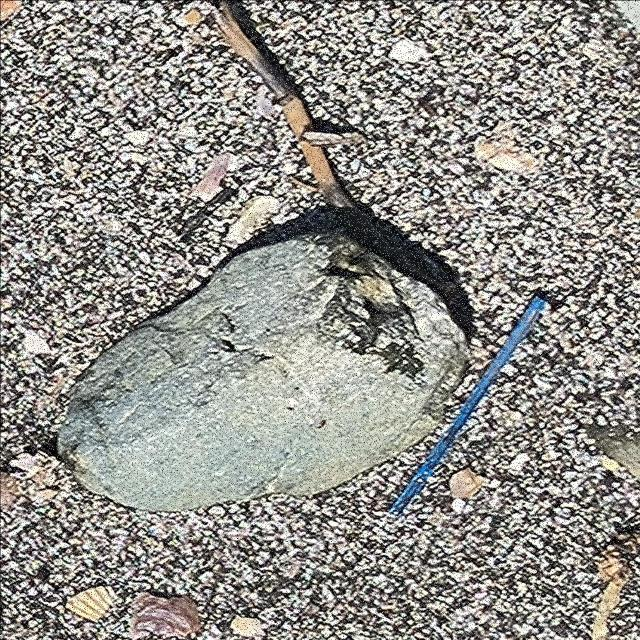plastic_waste: (388, 294, 548, 516)
